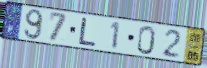0: (136, 25, 157, 56)
1: (109, 22, 121, 51)
2: (161, 28, 183, 60)
7: (47, 11, 70, 43)
9: (23, 8, 46, 41)
L: (77, 16, 98, 48)
